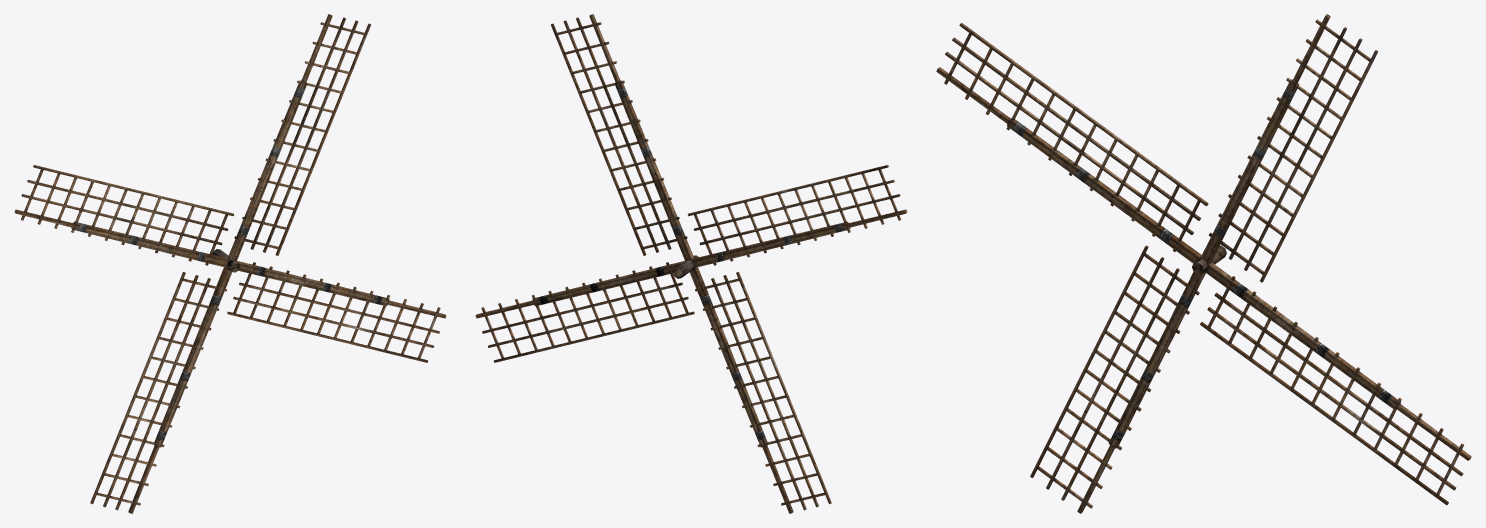
The model's file is WindmilBlade.obj.
3 views of the same model, side by side, from view 1: azimuth 30°, elevation 25°; view 2: azimuth 150°, elevation 25°; view 3: azimuth 330°, elevation 25° (orthographic). The views are drawn at different scales.
Bounding box in the file's own units: 19.83 × 19.83 × 1.49.
Materials: 1 (1 with a texture image).
